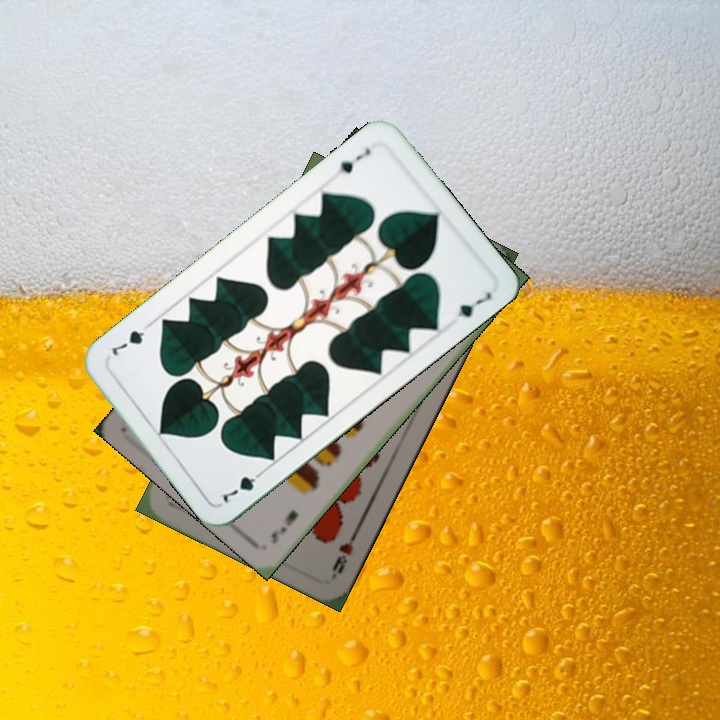E7: (266, 505, 301, 547)
G7: (216, 465, 268, 506), (329, 143, 374, 179)
H9: (328, 524, 362, 580)
